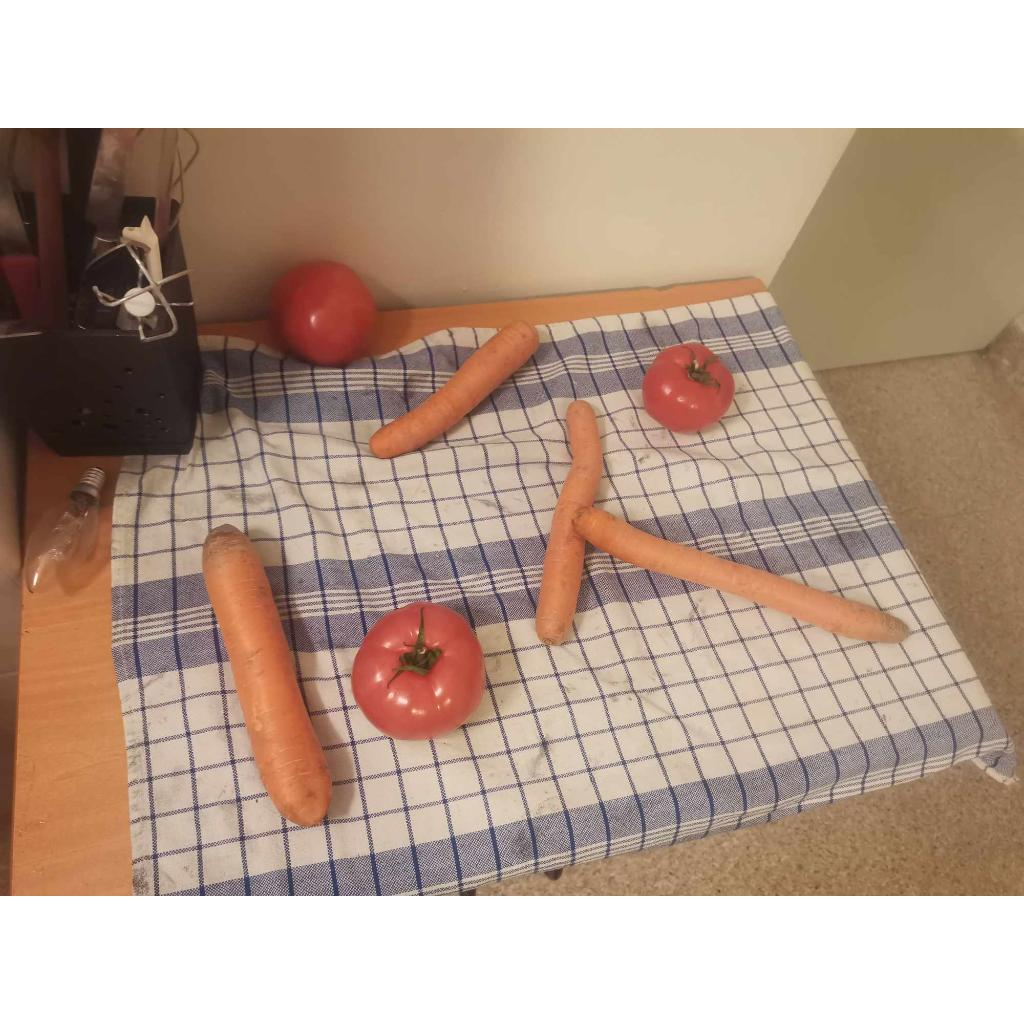carrot: (574, 508, 910, 642), (202, 524, 332, 826), (370, 320, 538, 458), (536, 400, 602, 646)
tomato: (352, 602, 486, 740), (270, 262, 376, 366), (642, 344, 734, 432)
